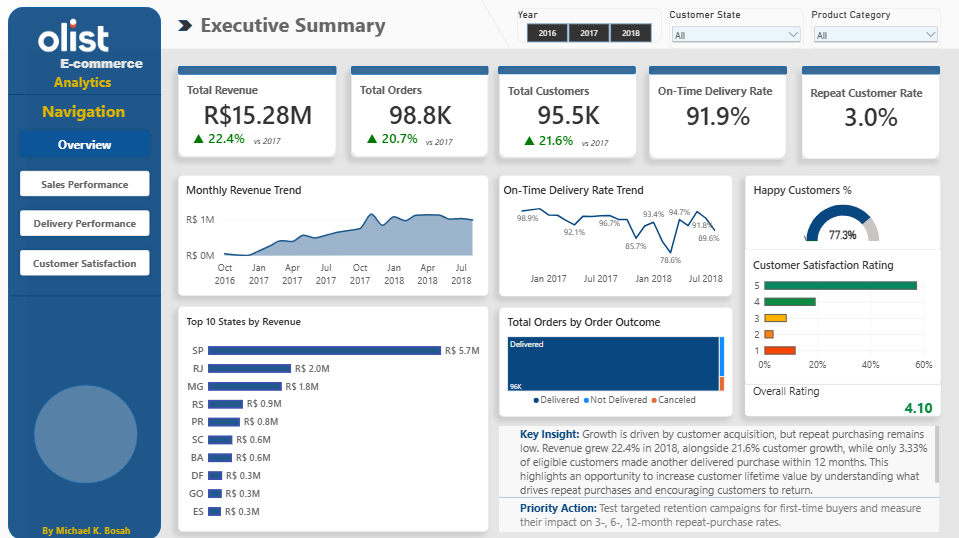

The page's visual inventory and layout, read from the dashboard file:
{"tool":"powerbi","page":{"name":"Overview","canvas":[1920,1080],"ordinal":0},"visuals":[{"type":"shape","box":[0,0,57.1,1080],"z":0},{"type":"shape","box":[1488.5,353,390.2,481],"z":1000},{"type":"shape","title":"s","box":[0,0,1920.7,101],"z":2000},{"type":"shape","box":[19.8,17.6,305.1,1062.4],"z":3000},{"type":"areaChart","title":"Monthly Revenue Trend","fields":{"Category":["vw_olist_analysis.order_date.Variation.Date Hierarchy.Year","vw_olist_analysis.order_date.Variation.Date Hierarchy.Month"],"Y":["vw_olist_analysis.Total Revenue"]},"box":[357.8,353.4,619,241.5],"z":4000},{"type":"cardVisual","fields":{"Data":["vw_olist_analysis.Total Orders"]},"box":[702.4,138.3,274.4,180],"z":5000},{"type":"cardVisual","title":"Total Customers","fields":{"Data":["Count(vw_olist_analysis.customer_unique_id)"]},"box":[998.1,137.7,275.3,181.9],"z":6000},{"type":"cardVisual","fields":{"Data":["vw_olist_analysis.Total Revenue"]},"box":[357.8,138.3,316.1,180],"z":7000},{"type":"slicer","title":"Customer State","fields":{"Values":["vw_olist_analysis.customer_state"]},"box":[1337.4,19.7,268,82],"z":8000},{"type":"slicer","title":"Product Category","fields":{"Values":["vw_olist_analysis.product_category"]},"box":[1620,19.8,259,81.2],"z":9000},{"type":"image","box":[0,0,304.8,155.5],"z":10000},{"type":"shape","box":[702.4,136.1,274.4,17.6],"z":11000},{"type":"shape","box":[357.8,136.1,316.1,17.6],"z":12000},{"type":"shape","box":[357.8,43.9,28.5,22],"z":13000},{"type":"pageNavigator","box":[35.1,256.8,274.4,305.1],"z":14000},{"type":"shape","box":[19.8,138.3,305.1,109.8],"z":15000},{"type":"textbox","box":[19.8,202,300.7,50.5],"z":16000},{"type":"textbox","box":[999.2,852.6,877.4,148.6],"z":17000},{"type":"textbox","box":[56,114,300.7,79],"z":18000},{"type":"slicer","title":"Year","fields":{"Values":["vw_olist_analysis.order_date.Variation.Date Hierarchy.Year"]},"box":[1035,19.7,287.6,68.8],"z":19000},{"type":"cardVisual","fields":{"Data":["customer_satisfaction.Revenue Growth Indicator"]},"box":[373.2,245.9,169.6,63.9],"z":20000},{"type":"textbox","box":[737,274.6,278.7,35.1],"z":21000},{"type":"cardVisual","fields":{"Data":["customer_satisfaction.Orders Growth Indicator"]},"box":[701.9,237.4,152.4,83.6],"z":22000},{"type":"cardVisual","fields":{"Data":["customer_satisfaction.Customer Growth Indicator"]},"box":[1015.7,245.7,147.5,76.2],"z":23000},{"type":"shape","box":[928.5,0,125.1,101],"z":24000},{"type":"cardVisual","fields":{"Data":["vw_olist_analysis.On-Time Delivery Rate"]},"box":[1296.5,142.5,274.6,179.6],"z":25000},{"type":"lineChart","title":"  On-Time Delivery Rate Trend","fields":{"Category":["vw_olist_analysis.order_date.Variation.Date Hierarchy.Year","vw_olist_analysis.order_date.Variation.Date Hierarchy.Month"],"Y":["vw_olist_analysis.On-Time Delivery Rate"]},"box":[999.2,353,464.5,241.5],"z":26000},{"type":"clusteredBarChart","title":"Customer Satisfaction Rating","fields":{"Category":["vw_olist_analysis.review_score"],"Y":["vw_olist_analysis.Rating Distribution %"]},"box":[1488.5,501.7,390.2,262.2],"z":27000},{"type":"gauge","fields":{"Y":["vw_olist_analysis.Happy Customers %"]},"box":[1488.5,353,390.2,148.6],"z":28000},{"type":"cardVisual","fields":{"Data":["Avg(customer_satisfaction.Average Rating)"]},"box":[1488.5,770.1,390.2,64],"z":29000},{"type":"clusteredBarChart","title":"Top 10 States by Revenue","fields":{"Category":["vw_olist_analysis.customer_state"],"Y":["vw_olist_analysis.Total Revenue"]},"box":[357.8,614.6,619,450],"z":30000},{"type":"treemap","title":"Total Orders by Order Outcome","fields":{"Group":["vw_olist_analysis.Order Outcome"],"Values":["Count(vw_olist_analysis.order_id)"]},"box":[999.2,615.2,466.3,219.2],"z":31000},{"type":"shape","box":[997.2,136.3,274.6,16.5],"z":32000},{"type":"shape","box":[1296.5,136.3,275.3,17.2],"z":33000},{"type":"cardVisual","fields":{"Data":["customer_satisfaction.Repeat Customer Rate"]},"box":[1602.1,142.5,274.6,179.6],"z":34000},{"type":"shape","box":[1602.1,136.3,275.3,17.2],"z":35000},{"type":"textbox","box":[450,272.2,166.8,41.7],"z":36000},{"type":"textbox","box":[1055,276.6,266.3,35.1],"z":37000},{"type":"shape","box":[72.4,770.5,206.5,196.1],"z":38000},{"type":"shape","box":[1490.6,745.3,388.1,49.5],"z":39000},{"type":"textbox","box":[999.2,1001.3,877.4,64],"z":40000},{"type":"textbox","box":[23.9,1048.1,304.9,31.9],"z":41000},{"type":"shape","box":[998.8,911,878,169],"z":42000},{"type":"textbox","box":[112,147.1,157.6,56],"z":43000},{"type":"shape","box":[24.1,509.3,300.7,166.8],"z":44000}]}

Visuals, with their boxes in screenshot pixels (x1, y1, x2, y2), scaled from the page's 1920x1080 canvas onto the 959x538 screenshot:
shape: 0 0 29 537
shape: 743 176 938 415
"s" shape: 0 0 958 50
shape: 10 9 162 537
"Monthly Revenue Trend" areaChart: 179 176 488 296
cardVisual - vw_olist_analysis.Total Orders: 351 69 488 159
"Total Customers" cardVisual: 499 69 636 159
cardVisual - vw_olist_analysis.Total Revenue: 179 69 337 159
"Customer State" slicer: 668 10 802 51
"Product Category" slicer: 809 10 939 50
image: 0 0 152 77
shape: 351 68 488 77
shape: 179 68 337 77
shape: 179 22 193 33
pageNavigator: 18 128 155 280
shape: 10 69 162 124
textbox: 10 101 160 126
textbox: 499 425 937 499
textbox: 28 57 178 96
"Year" slicer: 517 10 661 44
cardVisual - customer_satisfaction.Revenue Growth Indicator: 186 122 271 154
textbox: 368 137 507 154
cardVisual - customer_satisfaction.Orders Growth Indicator: 351 118 427 160
cardVisual - customer_satisfaction.Customer Growth Indicator: 507 122 581 160
shape: 464 0 526 50
cardVisual - vw_olist_analysis.On-Time Delivery Rate: 648 71 785 160
"  On-Time Delivery Rate Trend" lineChart: 499 176 731 296
"Customer Satisfaction Rating" clusteredBarChart: 743 250 938 381
gauge - vw_olist_analysis.Happy Customers %: 743 176 938 250
cardVisual - Avg(customer_satisfaction.Average Rating): 743 384 938 416
"Top 10 States by Revenue" clusteredBarChart: 179 306 488 530
"Total Orders by Order Outcome" treemap: 499 306 732 416
shape: 498 68 635 76
shape: 648 68 785 76
cardVisual - customer_satisfaction.Repeat Customer Rate: 800 71 937 160
shape: 800 68 938 76
textbox: 225 136 308 156
textbox: 527 138 660 155
shape: 36 384 139 482
shape: 745 371 938 396
textbox: 499 499 937 531
textbox: 12 522 164 537
shape: 499 454 937 537
textbox: 56 73 135 101
shape: 12 254 162 337
